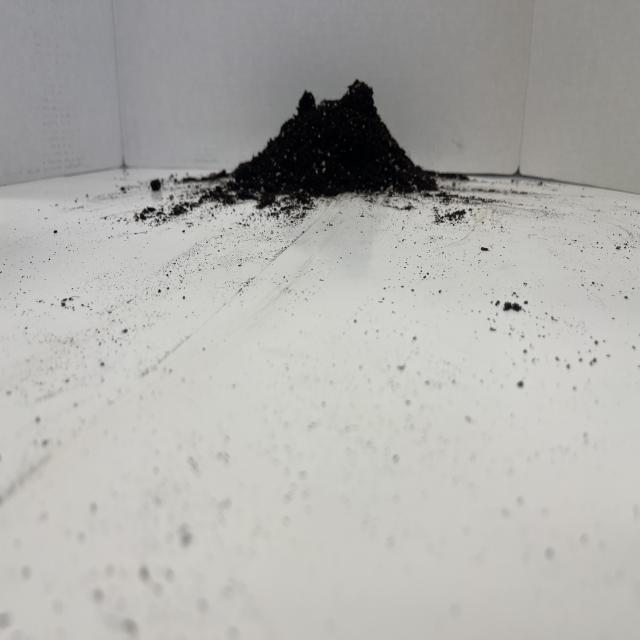soil: (138, 33, 491, 239)
